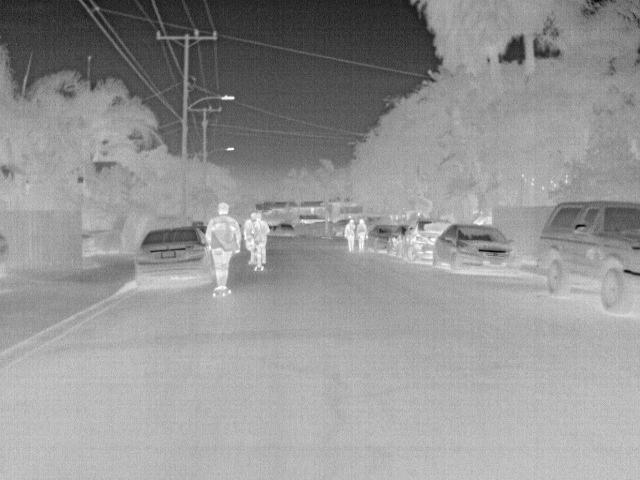car: (533, 198, 639, 317), (133, 226, 216, 288), (431, 223, 522, 275), (404, 218, 452, 266), (367, 223, 400, 254), (388, 224, 410, 257), (82, 232, 100, 258), (333, 218, 352, 236), (275, 222, 296, 238)
person: (204, 200, 244, 290), (248, 212, 268, 264), (242, 213, 257, 262), (355, 218, 369, 252), (343, 221, 357, 253)
